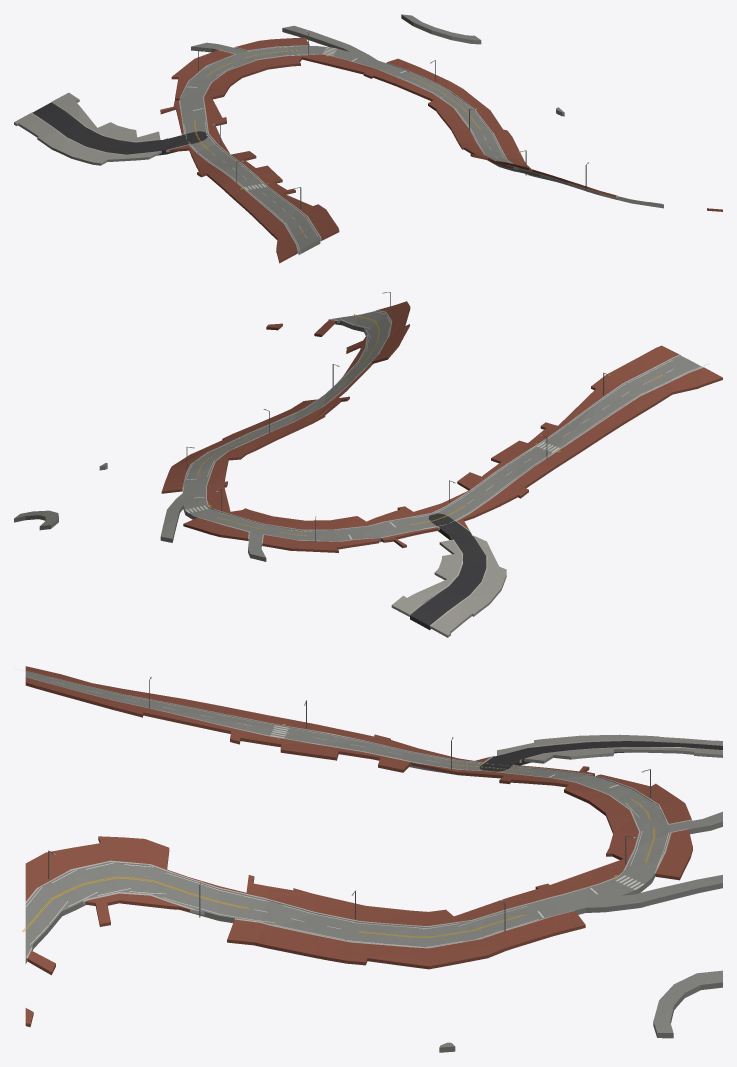
3 renders of one model, top to bottom at view 1: azimuth 30°, elevation 25°; view 2: azimuth 150°, elevation 25°; view 3: azimuth 270°, elevation 25°, orthographic. The views are drawn at different scales.
Size of the model in its own units: 140 by 30.72 by 148.
